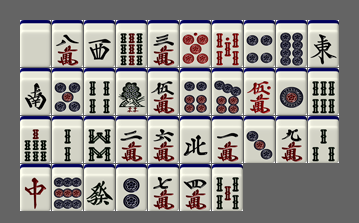0m: (244, 68, 275, 115)
0p: (180, 20, 211, 67)
0s: (212, 20, 243, 67)
1m: (212, 116, 243, 163)
1p: (276, 68, 307, 115)
1s: (116, 68, 147, 115)
1z: (308, 20, 339, 67)
2m: (116, 116, 147, 163)
2p: (116, 164, 147, 211)
2s: (52, 116, 83, 163)
2z: (20, 68, 51, 115)
3m: (148, 20, 179, 67)
3p: (244, 116, 275, 163)
3s: (308, 116, 339, 163)
3z: (84, 20, 115, 67)
4m: (180, 164, 211, 211)
4p: (244, 20, 275, 67)
4s: (84, 68, 115, 115)
4z: (180, 116, 211, 163)
5m: (148, 68, 179, 115)
5p: (52, 68, 83, 115)
5s: (212, 164, 243, 211)
5z: (20, 20, 51, 67)
6m: (148, 116, 179, 163)
6p: (180, 68, 211, 115)
6s: (308, 68, 339, 115)
6z: (84, 164, 115, 211)
7m: (148, 164, 179, 211)
7p: (212, 68, 243, 115)
7s: (20, 116, 51, 163)
7z: (20, 164, 51, 211)
8m: (52, 20, 83, 67)
8p: (276, 20, 307, 67)
8s: (84, 116, 115, 163)
9m: (276, 116, 307, 163)
9p: (52, 164, 83, 211)
9s: (116, 20, 147, 67)
